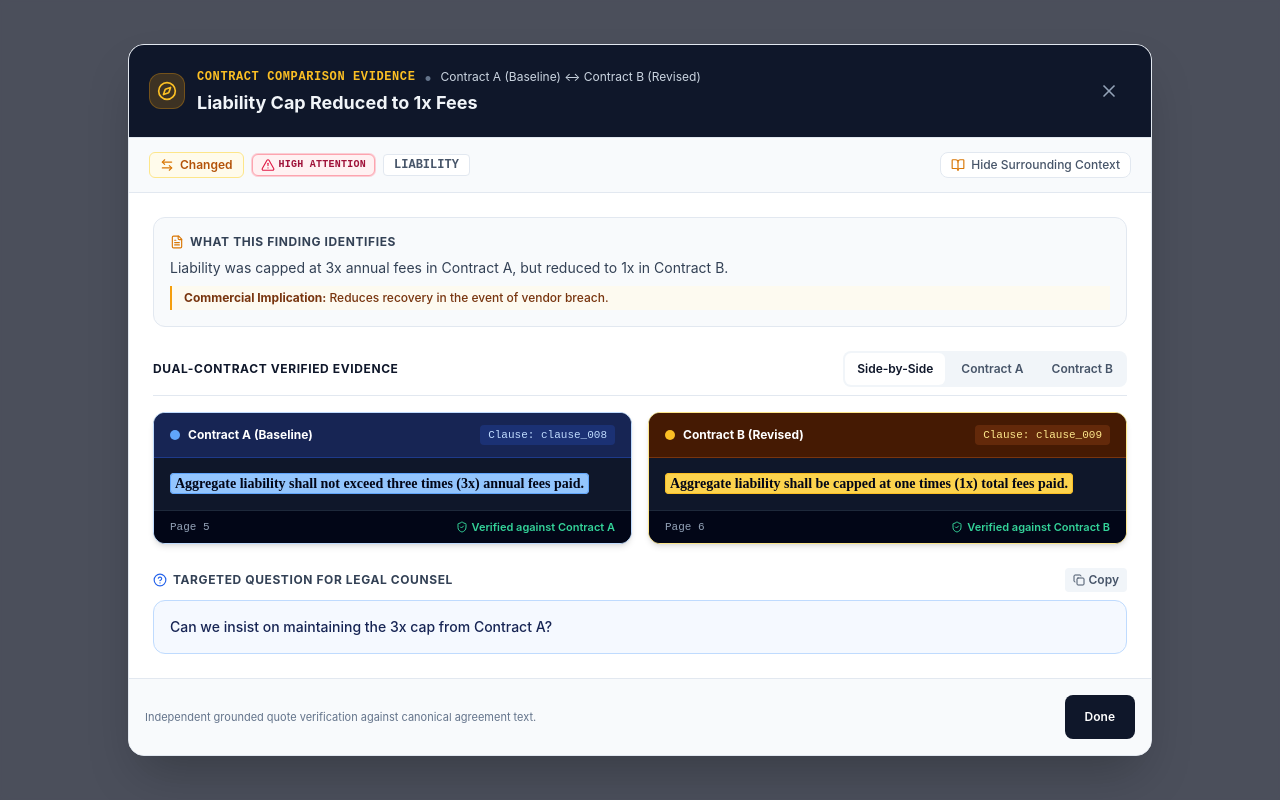
Test case: EvidenceNavigator Component › Mode B: Contract Comparison Evidence › allows switching between Side-by-Side, Contract A tab, and Contract B tab
Step 1. Click the tab "Contract A" → x=992, y=369, box 949,353 -> 1036,385
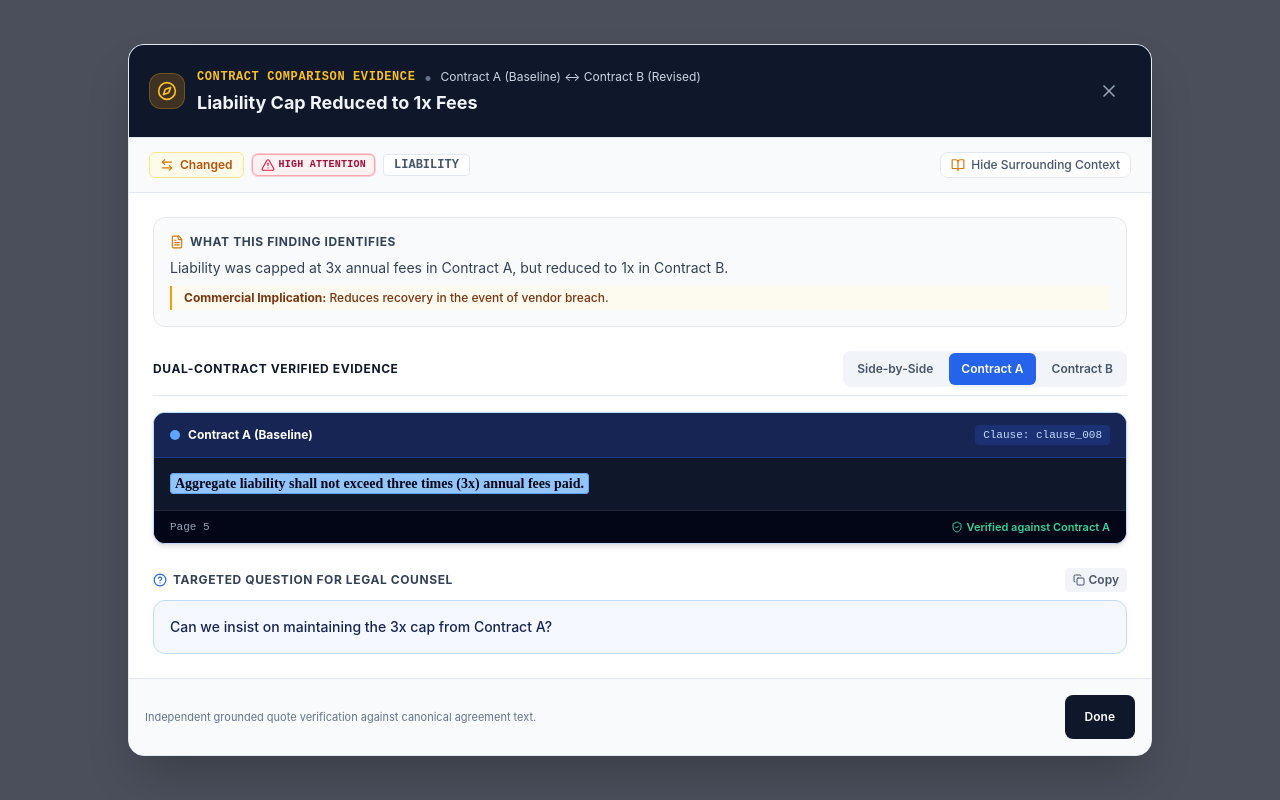
Expected: the text "Contract A (Baseline)" is shown, 188,427 -> 313,443
Step 2. Click the tab "Contract B" → x=1082, y=369, box 1040,353 -> 1125,385
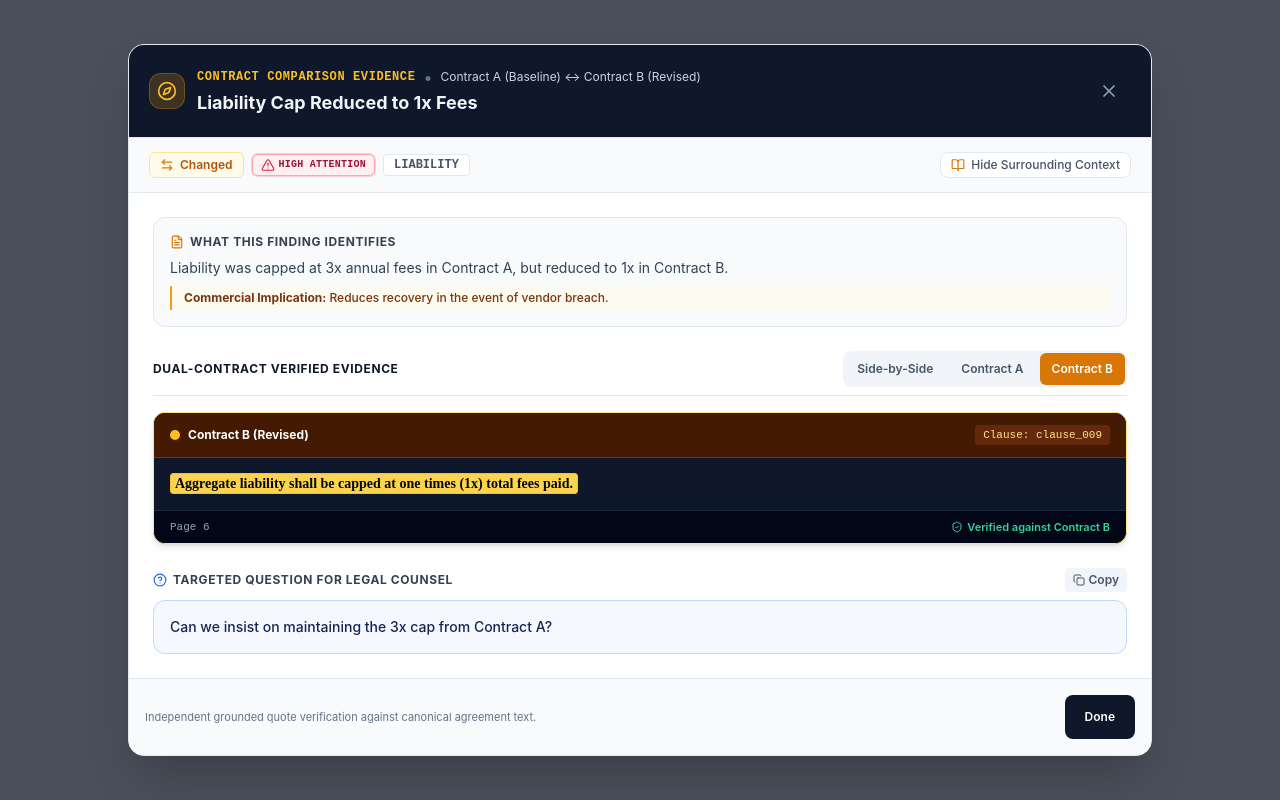
Now the text "Contract B (Revised)" is shown, box 188,427 -> 309,443
Step 3. Click the tab "Side-by-Side" → x=895, y=369, box 845,353 -> 945,385
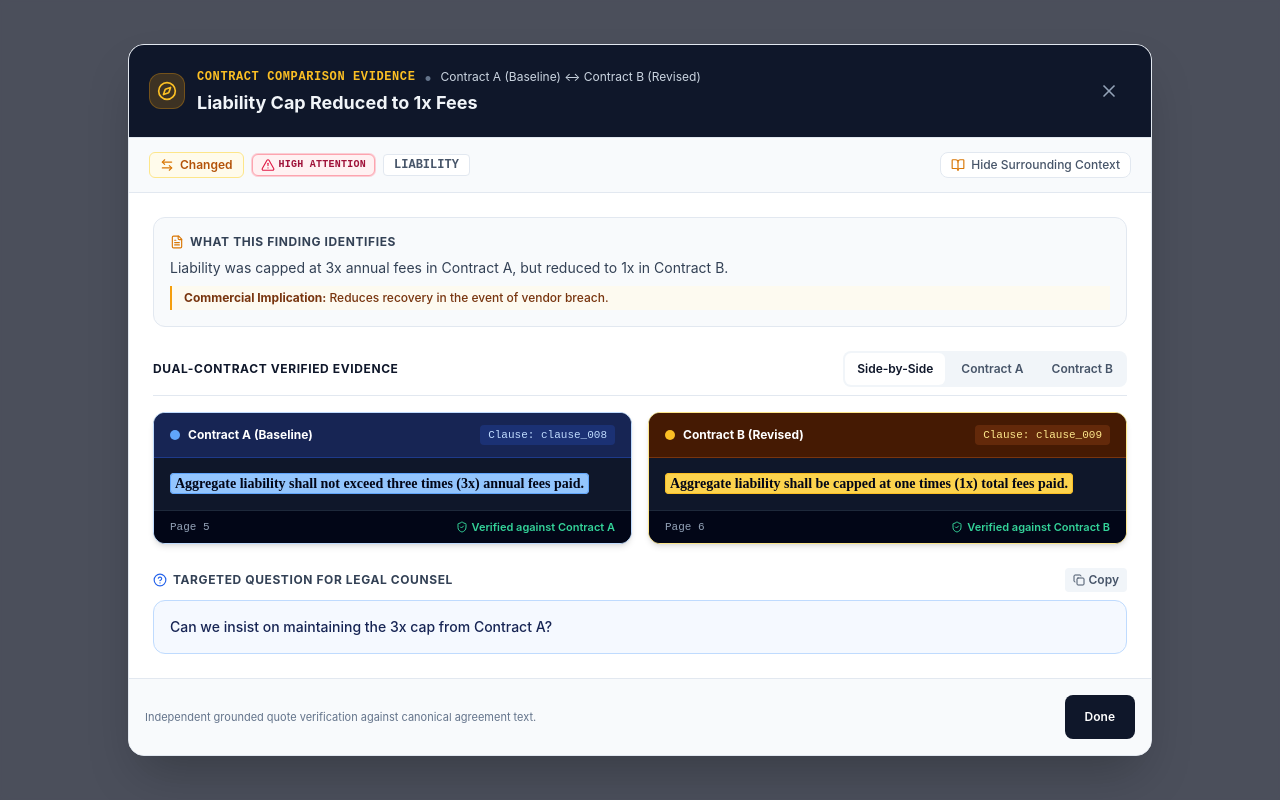
Now the text "Contract B (Revised)" is shown, box 683,427 -> 804,443
Now the text "Contract A (Baseline)" is shown, box 188,427 -> 313,443
